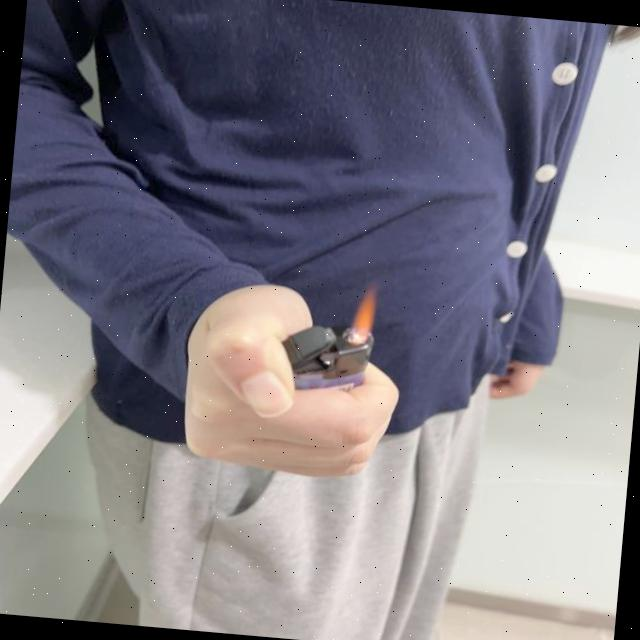fire: (346, 280, 380, 342)
